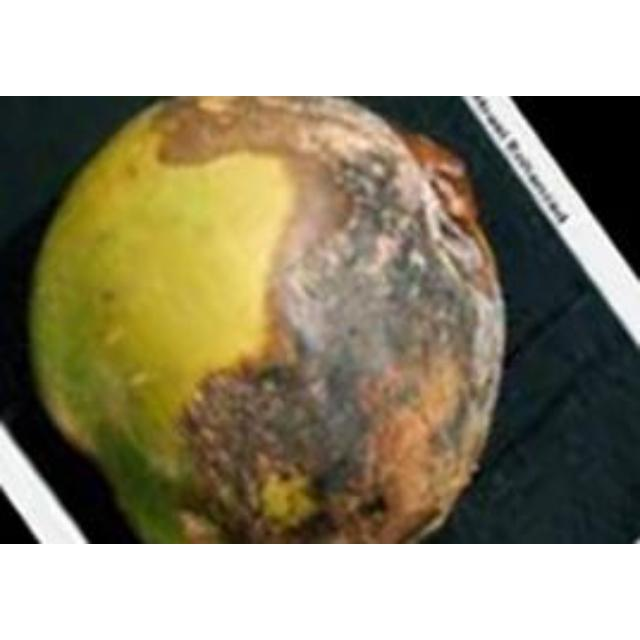damaged: (21, 96, 511, 543)
